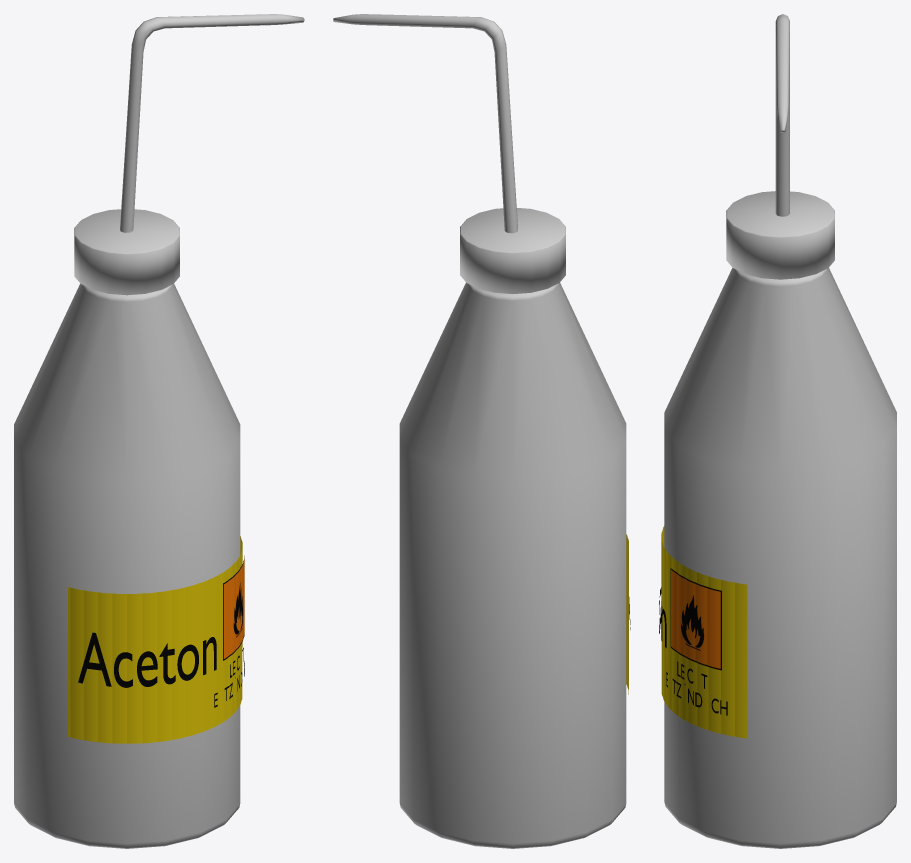
The model's file is label_AcetonNN.fbx.
3 renders of one model, left to right at view 1: azimuth 30°, elevation 25°; view 2: azimuth 150°, elevation 25°; view 3: azimuth 270°, elevation 25°, orthographic. The views are drawn at different scales.
Parts seen in each view (by area): view 1: Aceton-Flasche; view 2: Aceton-Flasche; view 3: Aceton-Flasche.
Part boxes in pixels (left/top/right/bottom): Aceton-Flasche: left=14, top=14, right=304, bottom=848; Aceton-Flasche: left=333, top=14, right=630, bottom=848; Aceton-Flasche: left=659, top=14, right=896, bottom=848.
Bounding box in the file's own units: 13.94 × 37.33 × 10.08.
